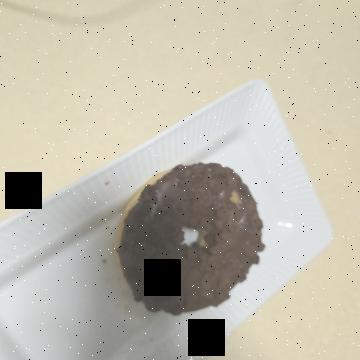doughnut: (138, 83, 320, 254)
